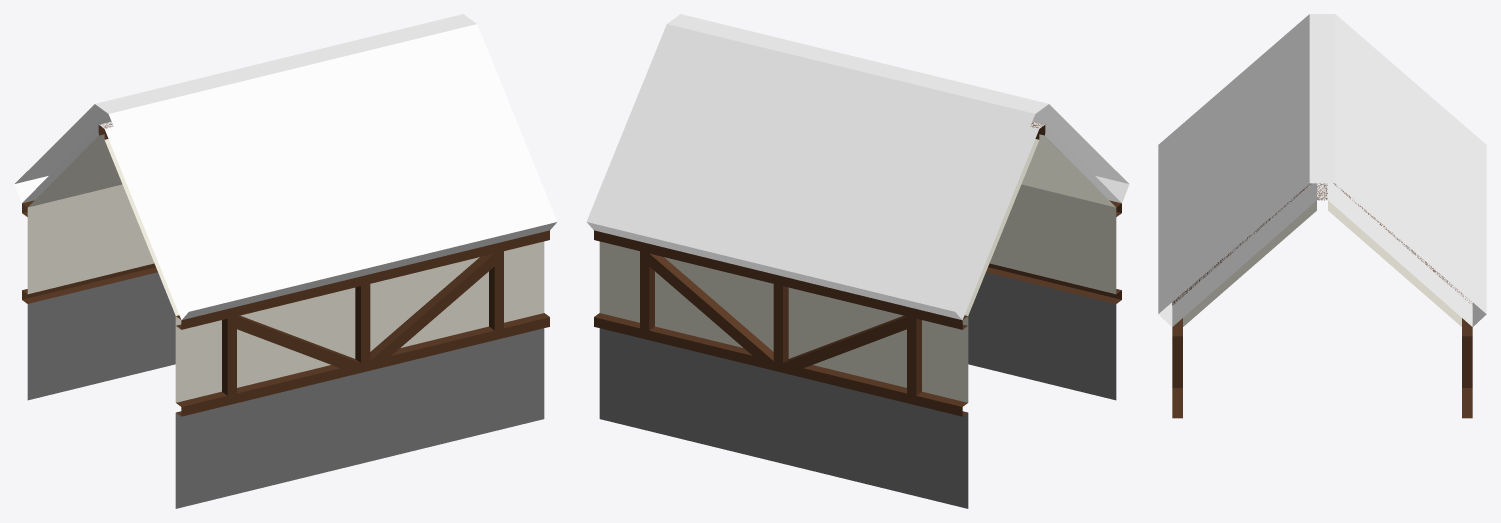
File: DoubleLongComplex.fbx
3 renders of one model, left to right at view 1: azimuth 30°, elevation 25°; view 2: azimuth 150°, elevation 25°; view 3: azimuth 270°, elevation 25°, orthographic. The views are drawn at different scales.
Visible parts, largest first — view 1: Double Long Complex; view 2: Double Long Complex; view 3: Double Long Complex.
Boxes of the visible parts, x1,y1,x2,y2 form: Double Long Complex: (14,14,557,508); Double Long Complex: (586,14,1129,508); Double Long Complex: (1158,14,1486,418).
Size of the model in its own units: 100 by 89.63 by 81.96.
